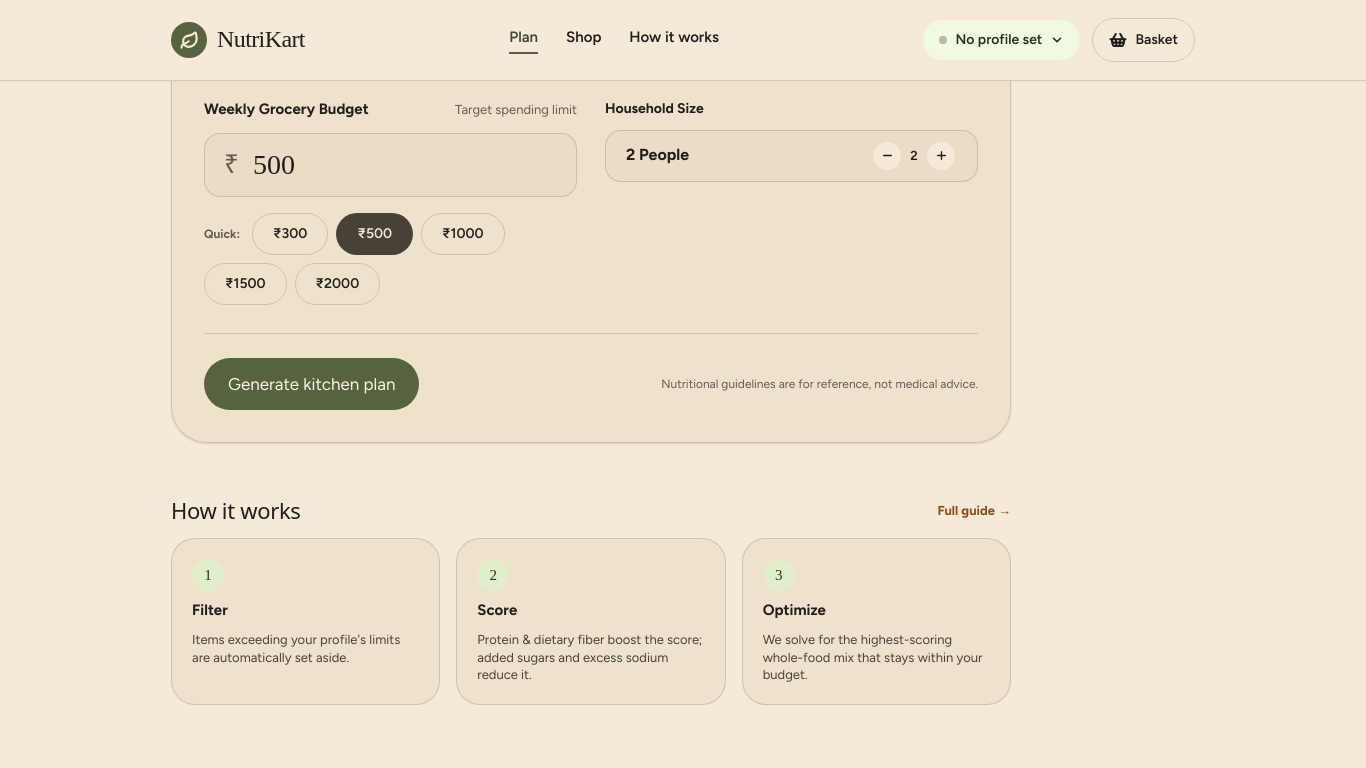
Planner Request States › renders empty state when zero recommendations are returned
The width and height of the screenshot is (1366, 768).
(page scrolled)
Click the button "Generate kitchen plan": (312, 384) [204,358,419,410]
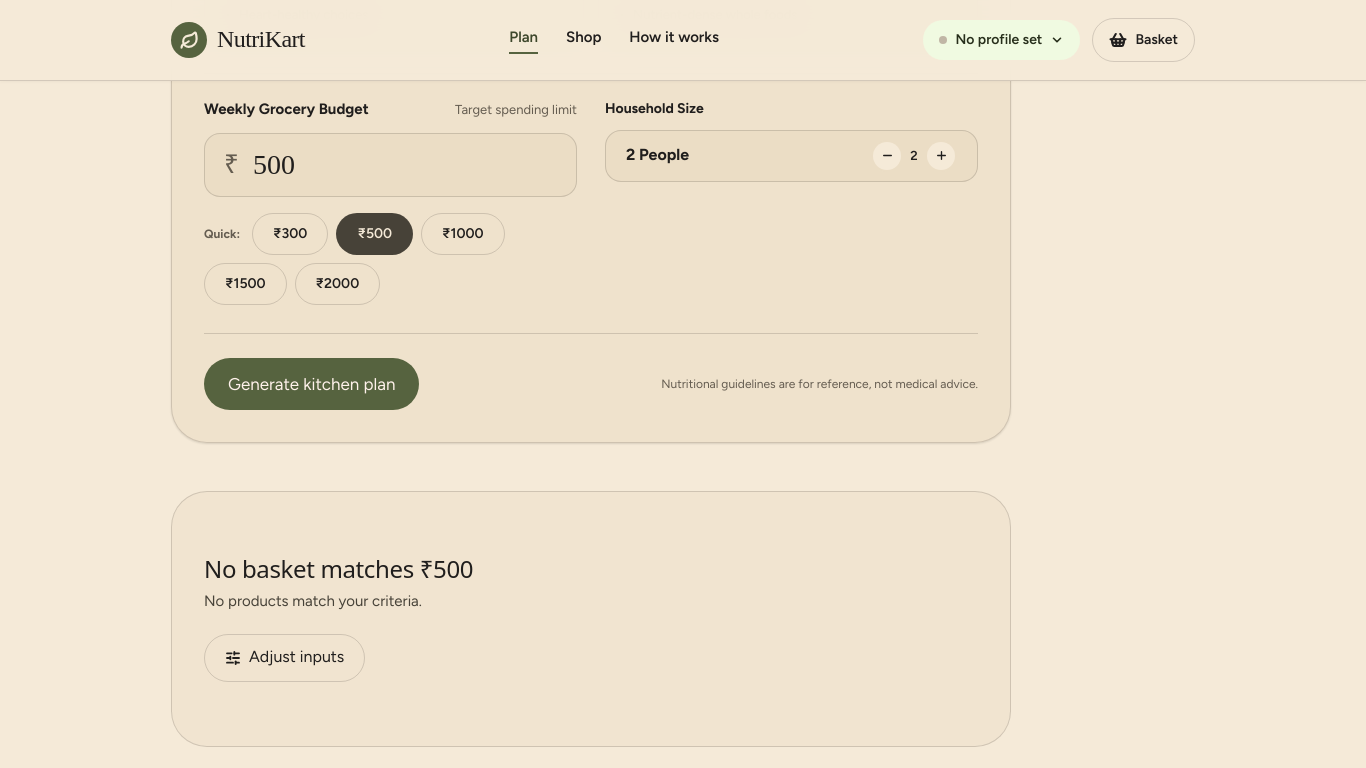
Now the heading "No basket matches ₹500" is shown, box [204,556,473,582]
Now the button "Adjust inputs" is shown, box [204,634,365,682]
